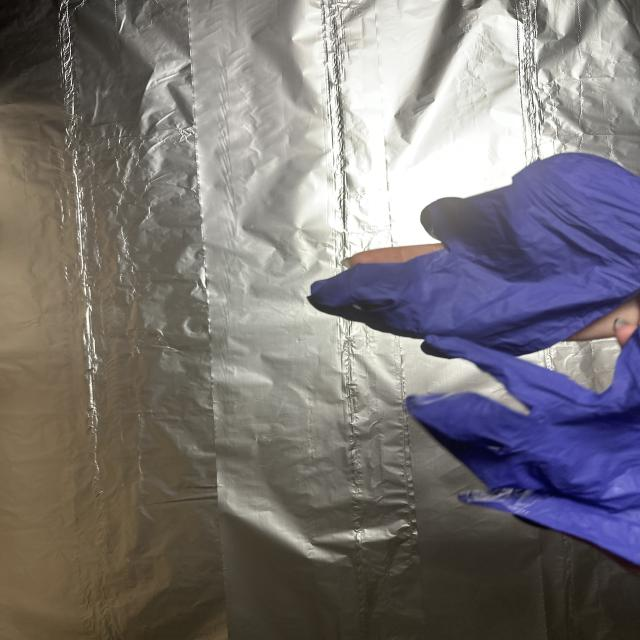glove_not_fitted: (317, 146, 640, 360), (391, 332, 640, 570)
